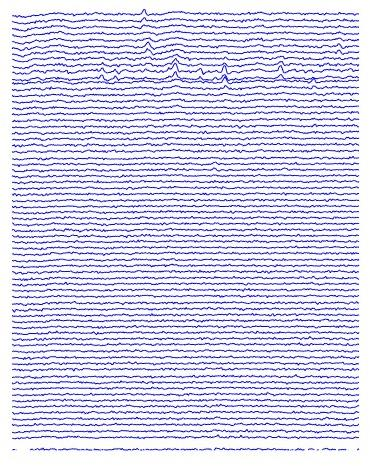defect: (93, 55, 123, 88), (213, 56, 232, 88), (329, 34, 350, 58), (140, 38, 157, 67), (168, 53, 184, 82), (270, 59, 288, 82), (137, 5, 151, 28)
